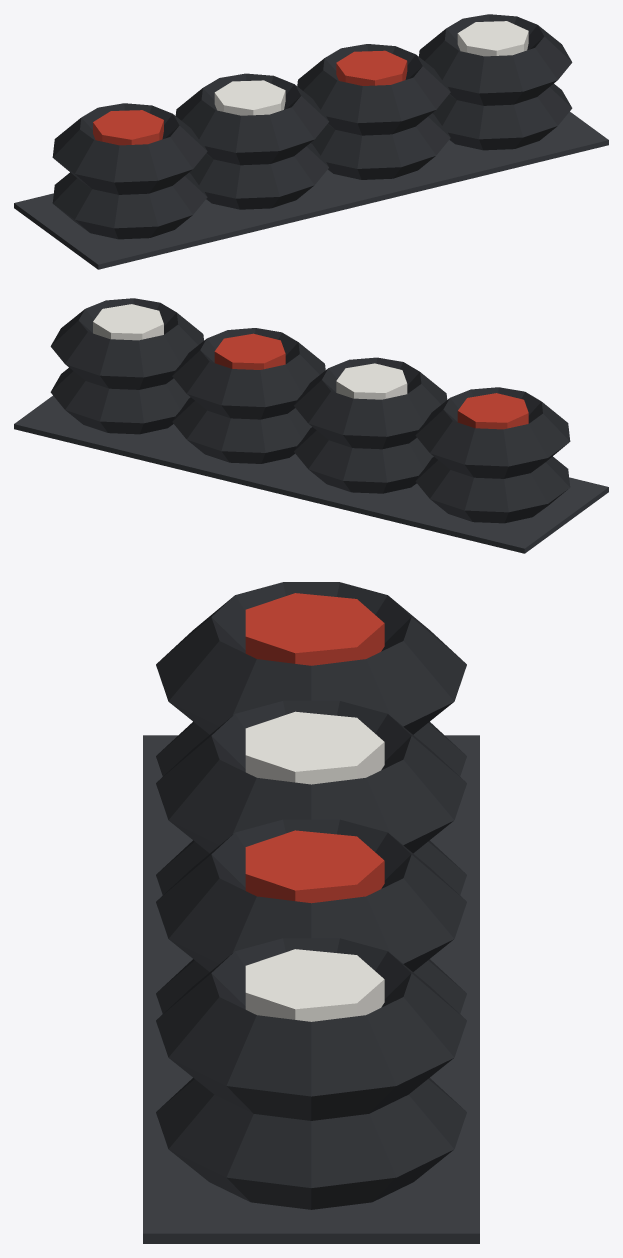
The model's file is tire-barrier-lod1.glb.
3 views of the same model, one above another, from view 1: azimuth 30°, elevation 25°; view 2: azimuth 150°, elevation 25°; view 3: azimuth 270°, elevation 25° (orthographic). The views are drawn at different scales.
Visible parts, largest first — view 1: tire-barrier; view 2: tire-barrier; view 3: tire-barrier.
Part boxes in pixels (x1,y1,x2,y2): tire-barrier: [14, 14, 608, 269]; tire-barrier: [14, 298, 608, 553]; tire-barrier: [143, 582, 479, 1243].
Size of the model in its own units: 2.1 by 0.38 by 0.6.
